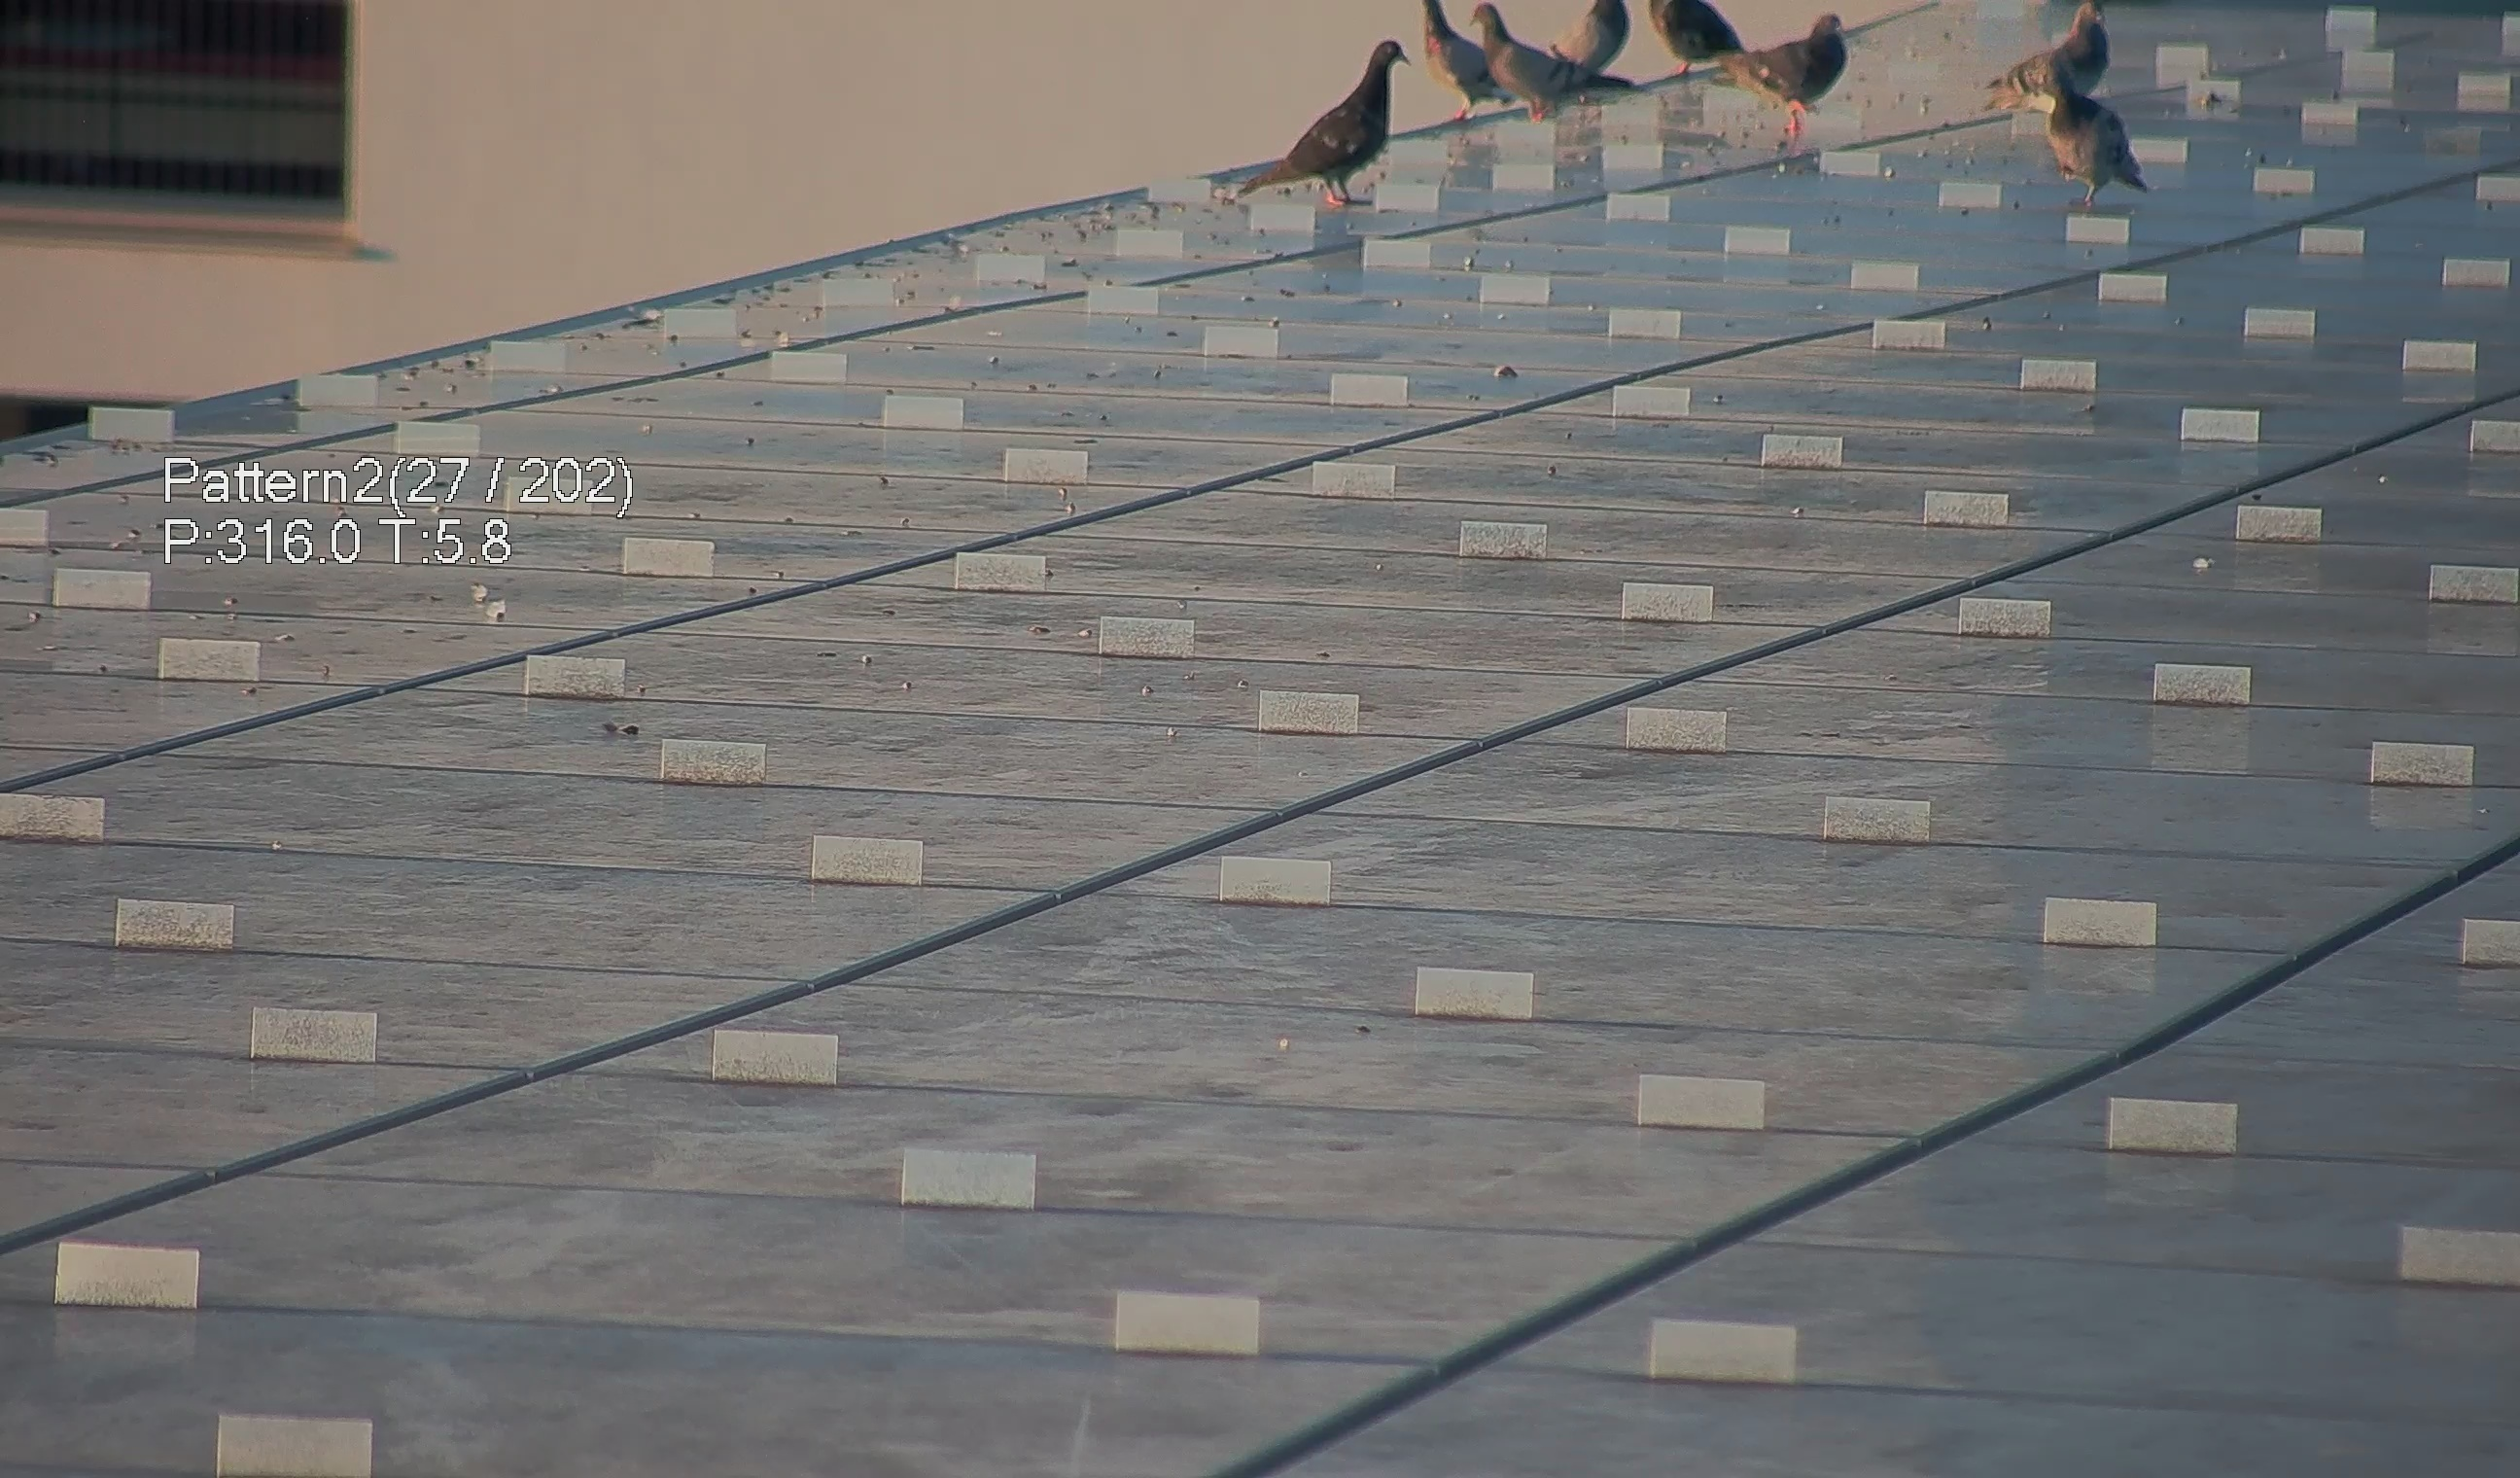Pigeon: (1220, 30, 1417, 209), (1474, 11, 1621, 135), (2040, 67, 2163, 204), (1978, 2, 2116, 121), (1743, 7, 1855, 135), (1648, 2, 1753, 74)
